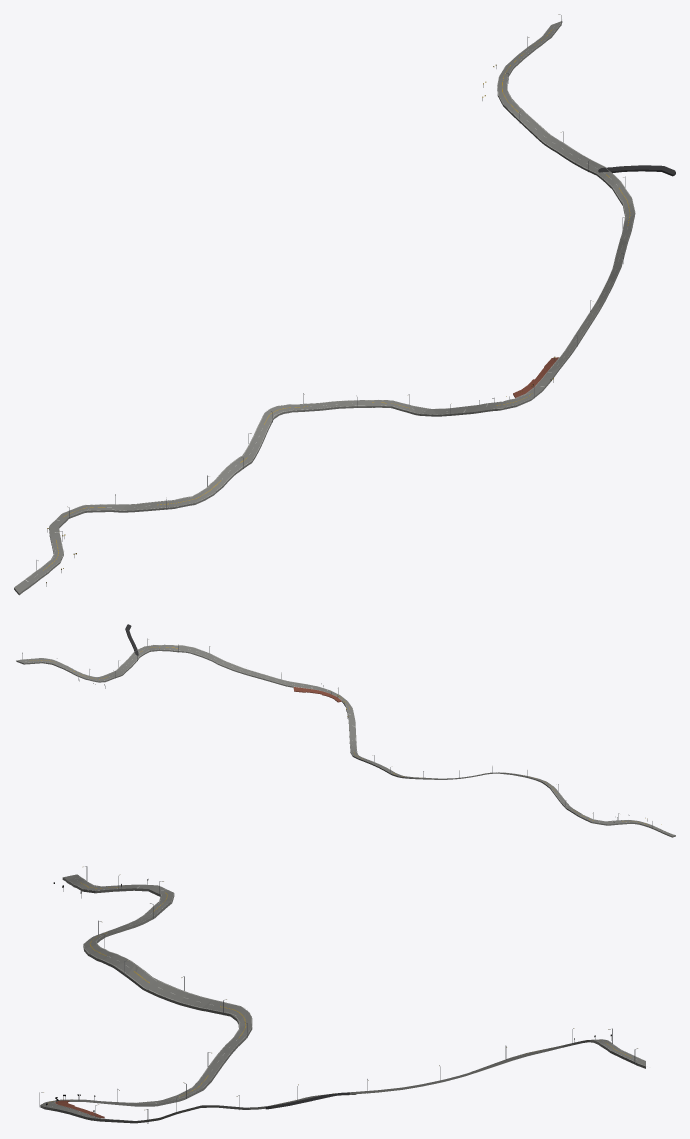
The picture shows the model from 3 angles, top to bottom: view 1: azimuth 30°, elevation 25°; view 2: azimuth 150°, elevation 25°; view 3: azimuth 270°, elevation 25°; orthographic projection. The views are drawn at different scales.
Size of the model in its own units: 539 by 164 by 277.
